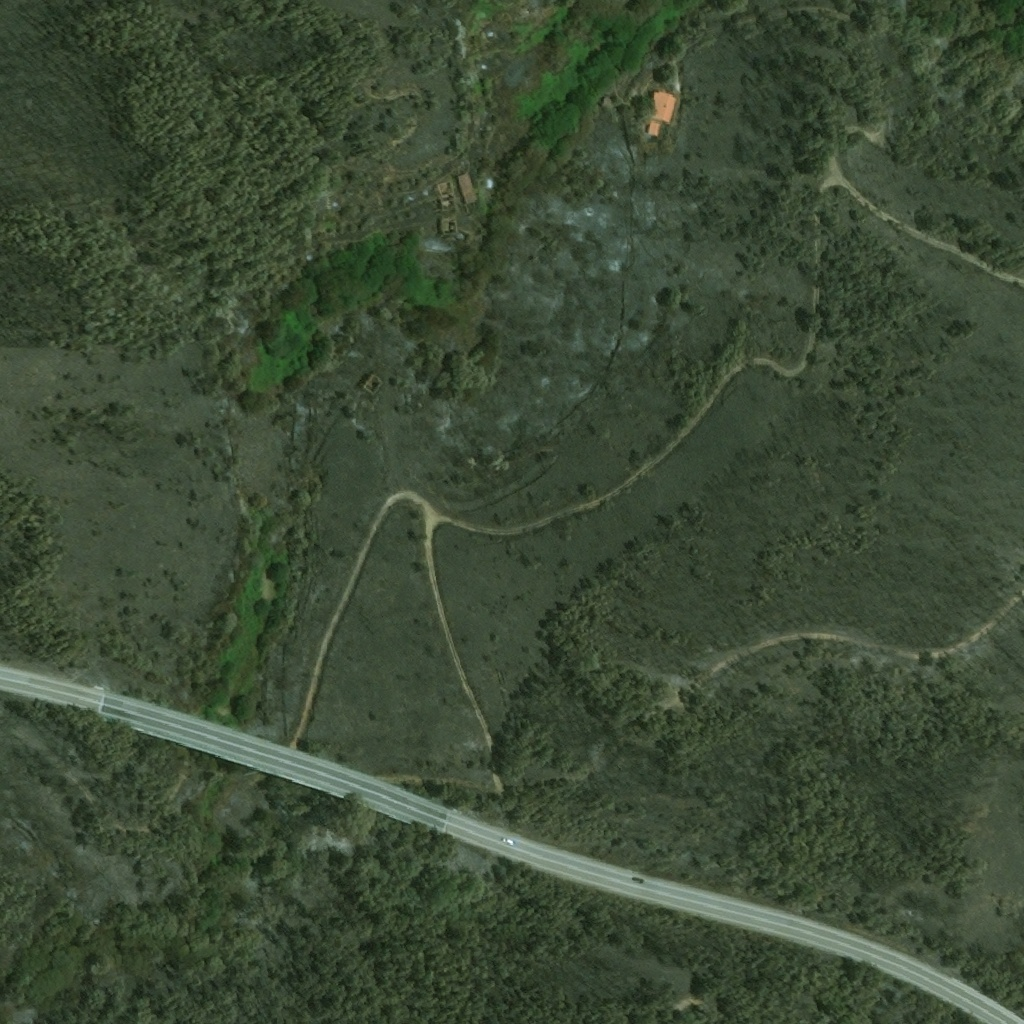0 no-damage: (643, 91, 678, 140), (455, 172, 481, 208)
3 destroyed: (436, 182, 457, 213)
